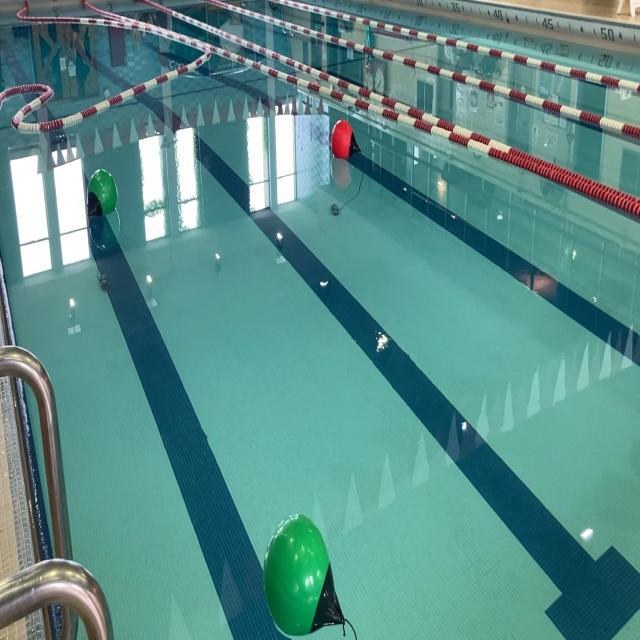buoy: (262, 514, 346, 636), (86, 170, 117, 222), (330, 119, 362, 160)
